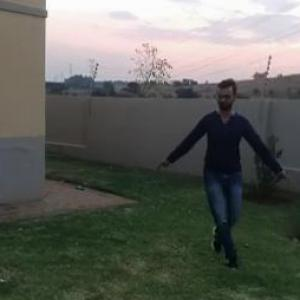land: (164, 68, 292, 273)
